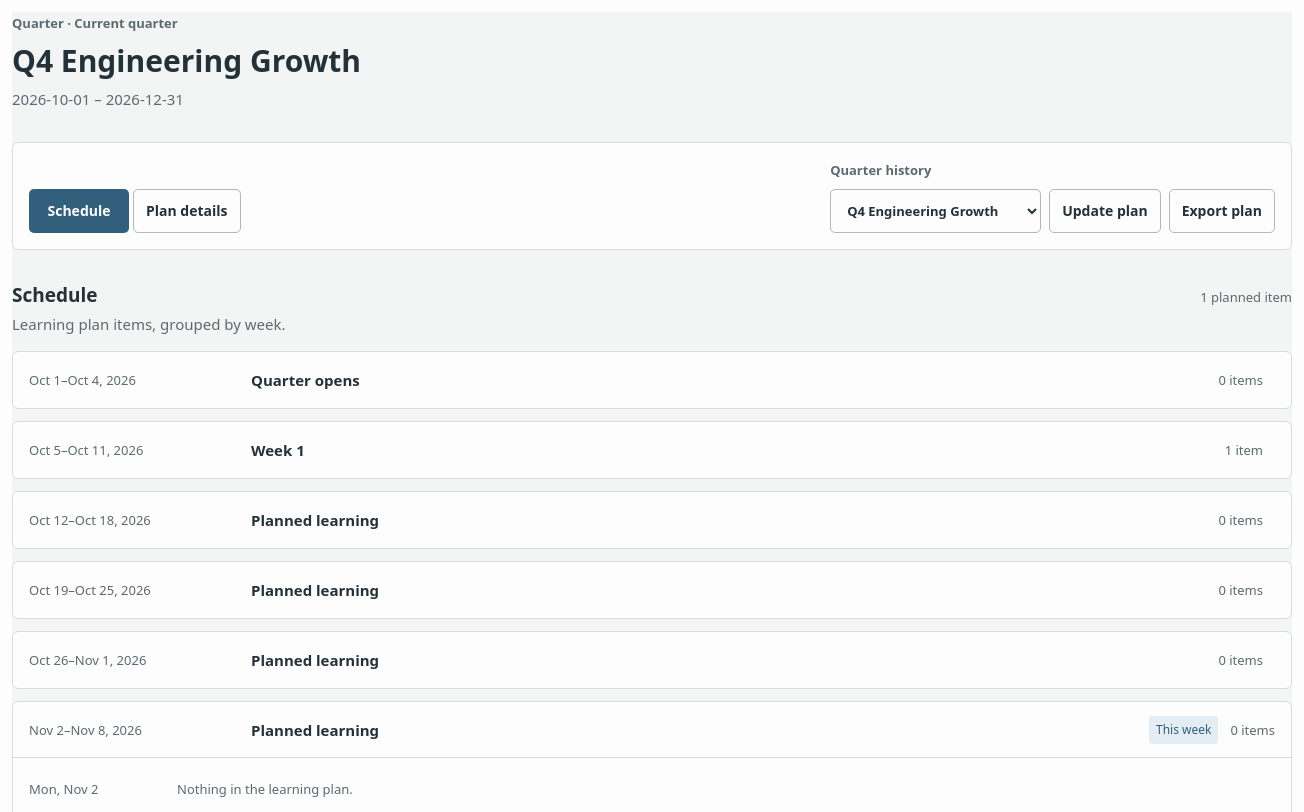
Test: Quarter plan navigation › keeps previous Quarters available in the history picker
Select "Q3 2026" in the dropdown named "Choose quarter". click: (936,211)
box: [830,189,1041,233]
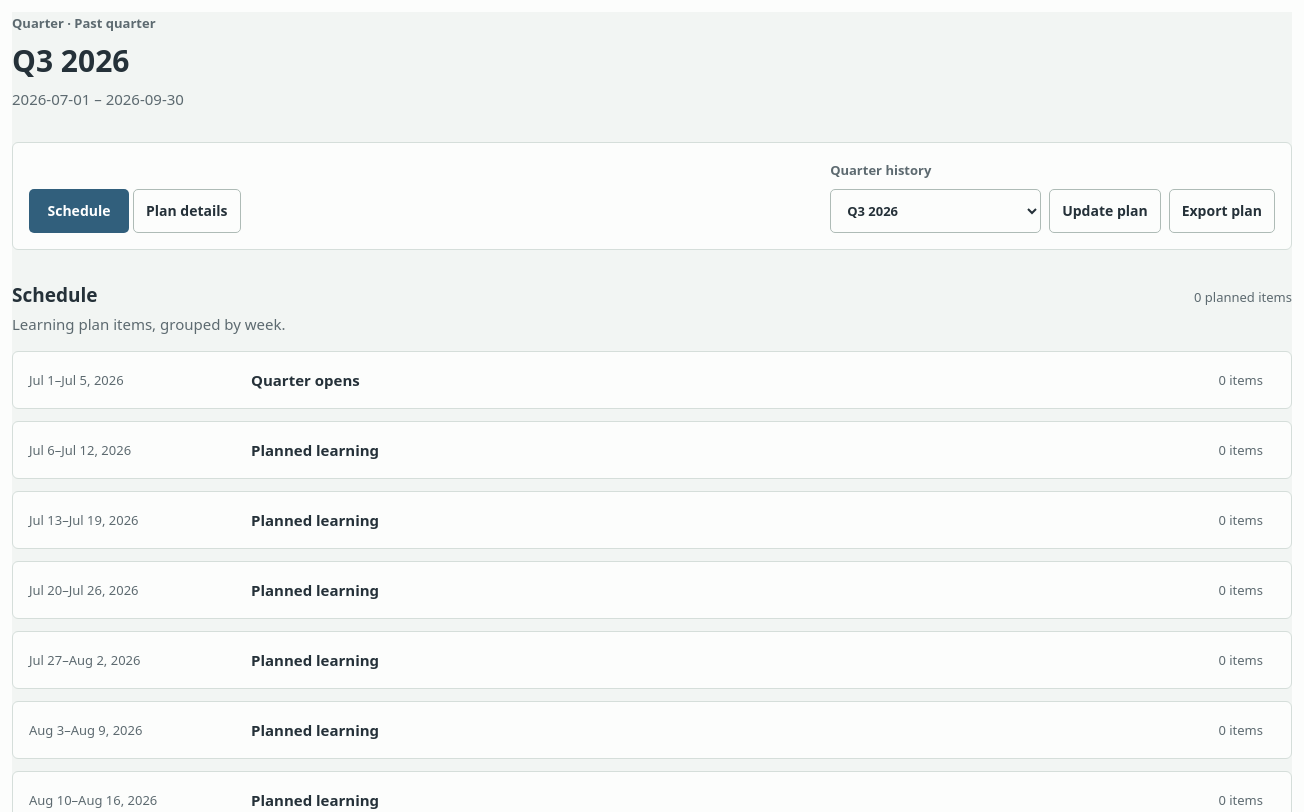
Check: the heading "Q3 2026" is shown, box [12,40,130,81]
